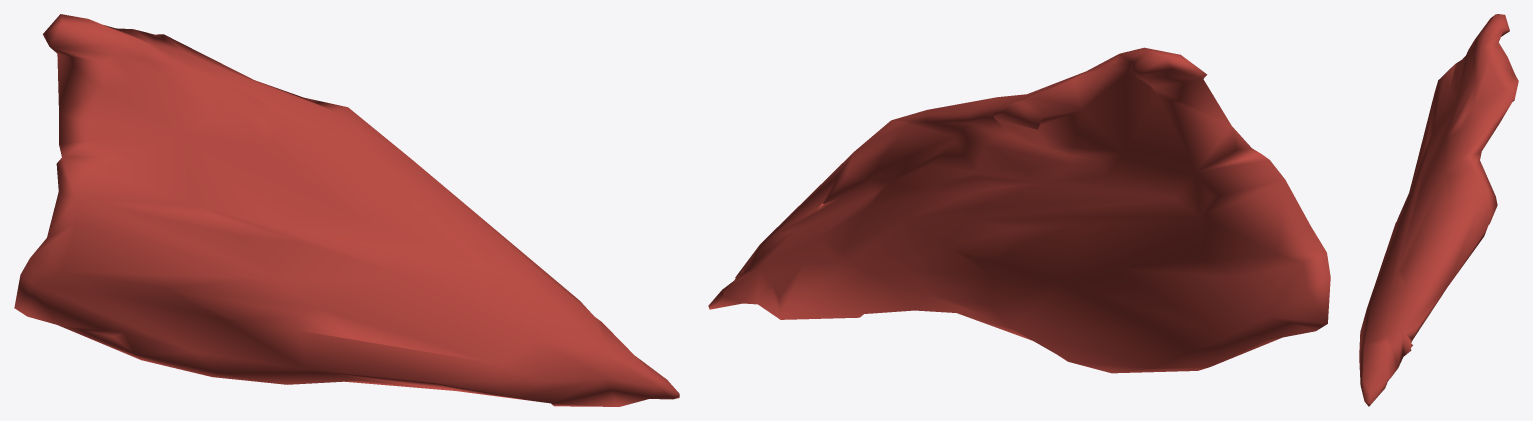
File: musculos-deep-head-of-flexor-pollicis-brevis-l.glb
3 views of the same model, side by side, from view 1: azimuth 30°, elevation 25°; view 2: azimuth 150°, elevation 25°; view 3: azimuth 270°, elevation 25° (orthographic). The views are drawn at different scales.
Visible parts, largest first — view 1: Deep head of flexor pollicis brevis.l; view 2: Deep head of flexor pollicis brevis.l; view 3: Deep head of flexor pollicis brevis.l.
Boxes of the visible parts, x1=… form: Deep head of flexor pollicis brevis.l: x1=14, y1=14, x2=679, y2=406; Deep head of flexor pollicis brevis.l: x1=708, y1=47, x2=1330, y2=373; Deep head of flexor pollicis brevis.l: x1=1359, y1=14, x2=1518, y2=406.
Size of the model in its own units: 0.0491 by 0.0333 by 0.0194.
